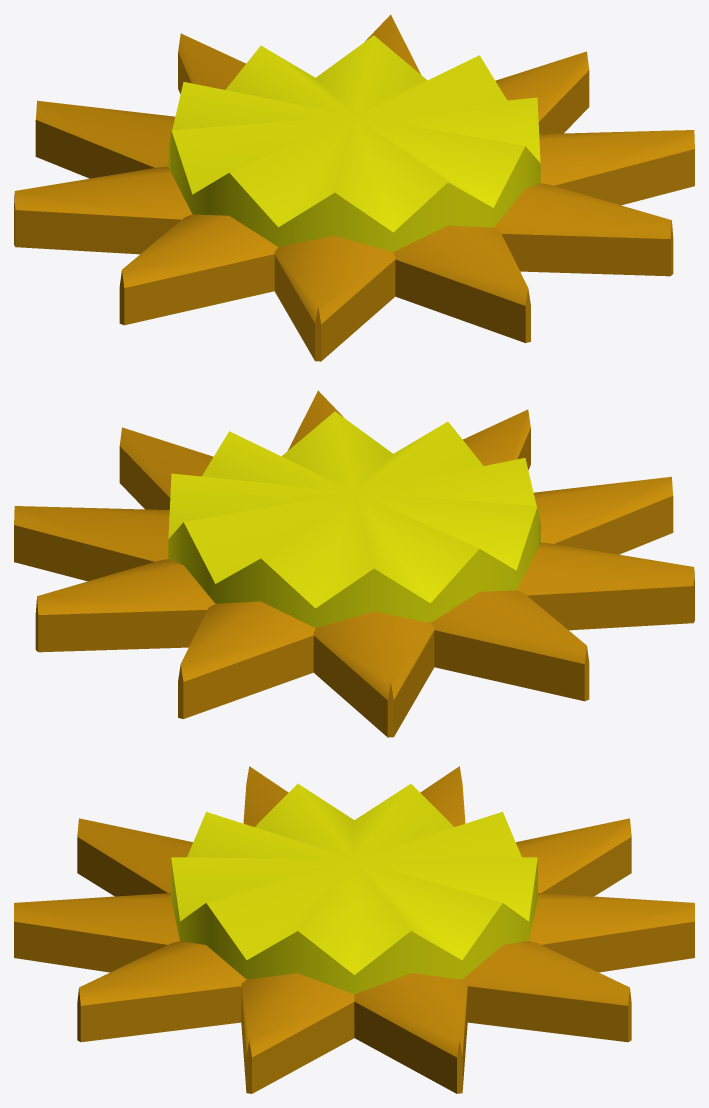
Rendered from Backdrop_PaperSun_Medium.fbx.
3 views of the same model, one above another, from view 1: azimuth 30°, elevation 25°; view 2: azimuth 150°, elevation 25°; view 3: azimuth 270°, elevation 25° (orthographic). The views are drawn at different scales.
Parts seen in each view (by area): view 1: Backdrop_PaperSun_Medium; view 2: Backdrop_PaperSun_Medium; view 3: Backdrop_PaperSun_Medium.
Part boxes in pixels (<box>): Backdrop_PaperSun_Medium: <box>14,14,694,361</box>; Backdrop_PaperSun_Medium: <box>14,390,694,737</box>; Backdrop_PaperSun_Medium: <box>14,766,694,1093</box>.
Size of the model in its own units: 191 by 32.23 by 200.
